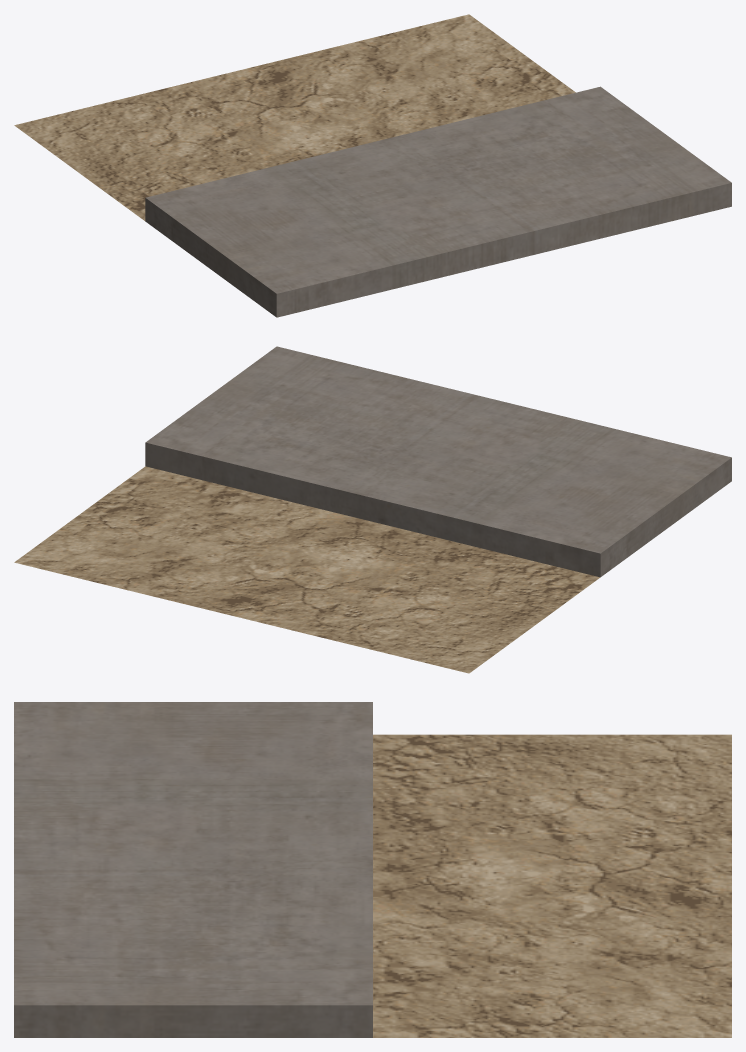
The model's file is roadDirt_side.dae.
The picture shows the model from 3 angles, top to bottom: view 1: azimuth 30°, elevation 25°; view 2: azimuth 150°, elevation 25°; view 3: azimuth 270°, elevation 25°; orthographic projection. The views are drawn at different scales.
Parts seen in each view (by area): view 1: roadDirt_side; view 2: roadDirt_side; view 3: roadDirt_side.
Part boxes in pixels (<box>): roadDirt_side: <box>14,14,731,317</box>; roadDirt_side: <box>14,346,731,673</box>; roadDirt_side: <box>14,702,731,1037</box>.
Bounding box in the file's own units: 1 × 0.05 × 1.
